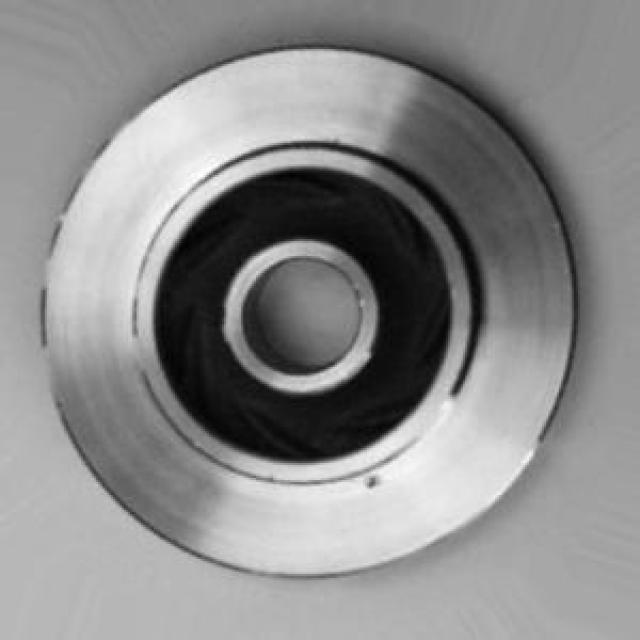Defect: (360, 467, 387, 493)
